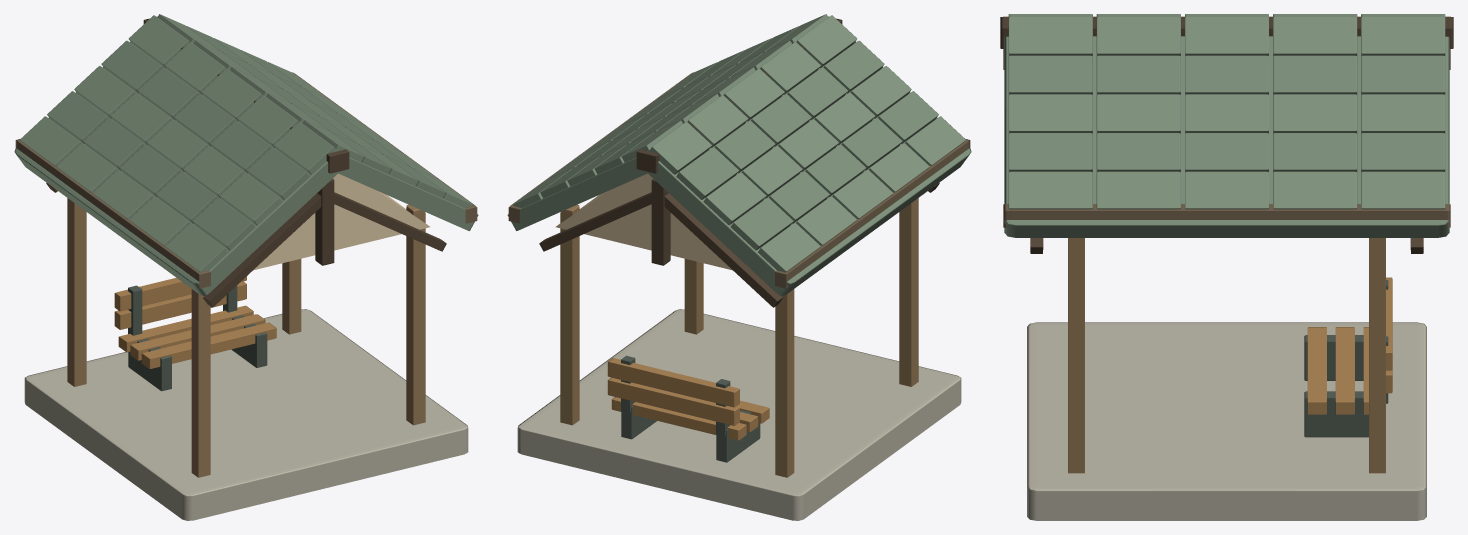
File: gazebo-2.glb
The picture shows the model from 3 angles, left to right: view 1: azimuth 30°, elevation 25°; view 2: azimuth 150°, elevation 25°; view 3: azimuth 270°, elevation 25°; orthographic projection. The views are drawn at different scales.
Visible parts, largest first — view 1: gazebo-2-0; view 2: gazebo-2-0; view 3: gazebo-2-0.
Part boxes in pixels (box(x1,y1,x2,y2)): gazebo-2-0: box(14, 14, 478, 520); gazebo-2-0: box(507, 14, 971, 520); gazebo-2-0: box(1000, 14, 1453, 520).
Size of the model in its own units: 1.86 by 2.16 by 2.11.
